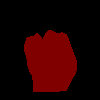polo: (24, 30, 77, 92)
